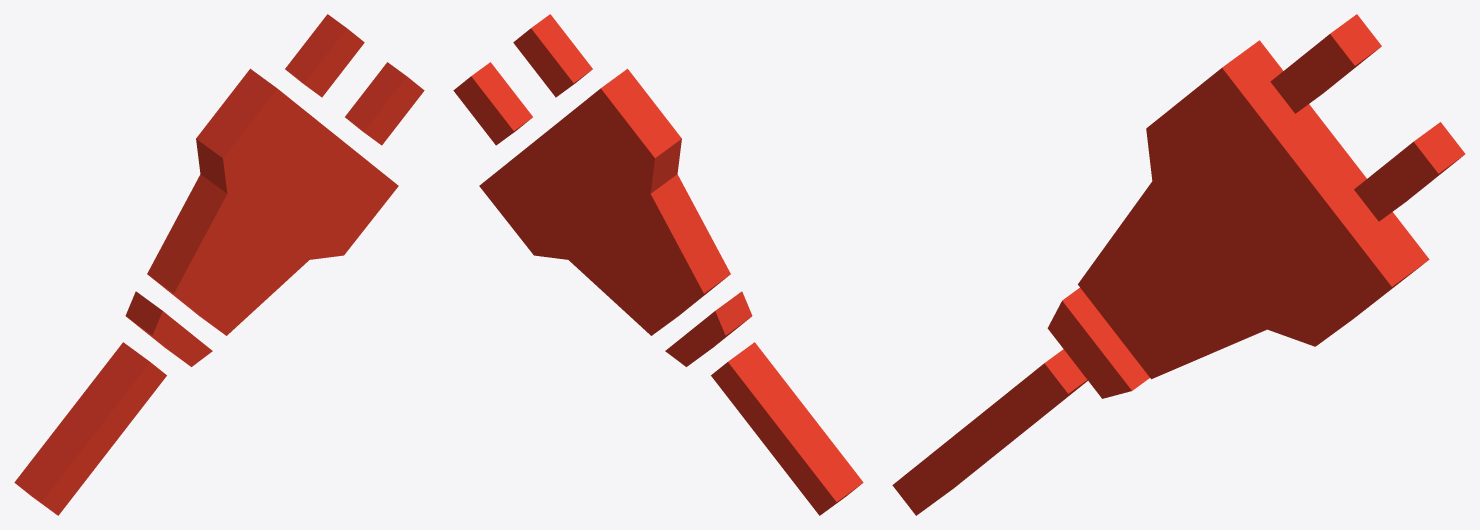
The model's file is Icon_ElectricalPlug.fbx.
3 views of the same model, side by side, from view 1: azimuth 30°, elevation 25°; view 2: azimuth 150°, elevation 25°; view 3: azimuth 330°, elevation 25° (orthographic). The views are drawn at different scales.
Visible parts, largest first — view 1: Icon_ElectricalPlug; view 2: Icon_ElectricalPlug; view 3: Icon_ElectricalPlug.
Boxes of the visible parts, bbox=[...] form: Icon_ElectricalPlug: bbox=[14, 14, 424, 515]; Icon_ElectricalPlug: bbox=[453, 14, 863, 515]; Icon_ElectricalPlug: bbox=[892, 14, 1465, 515].
Size of the model in its own units: 75.86 by 77.46 by 9.14.
